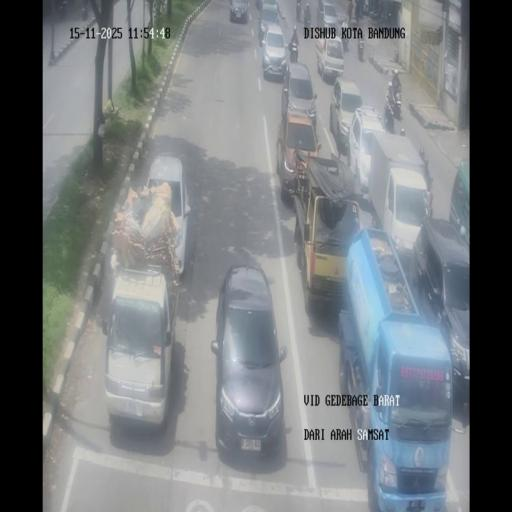3: (338, 230, 452, 505), (292, 153, 360, 309), (365, 132, 433, 259)
car: (211, 262, 287, 462), (102, 264, 178, 432), (142, 154, 192, 276), (282, 59, 317, 128), (331, 78, 363, 152), (449, 161, 470, 261), (316, 31, 344, 81), (257, 2, 280, 45), (318, 0, 338, 28), (229, 0, 249, 23)
truck: (386, 85, 402, 123), (341, 21, 350, 53), (288, 38, 298, 61), (358, 38, 366, 61), (303, 3, 311, 26), (371, 4, 380, 20), (354, 0, 360, 24), (347, 0, 353, 23), (81, 3, 88, 21), (380, 1, 386, 22), (361, 1, 369, 16), (296, 4, 302, 21), (387, 10, 392, 24)
